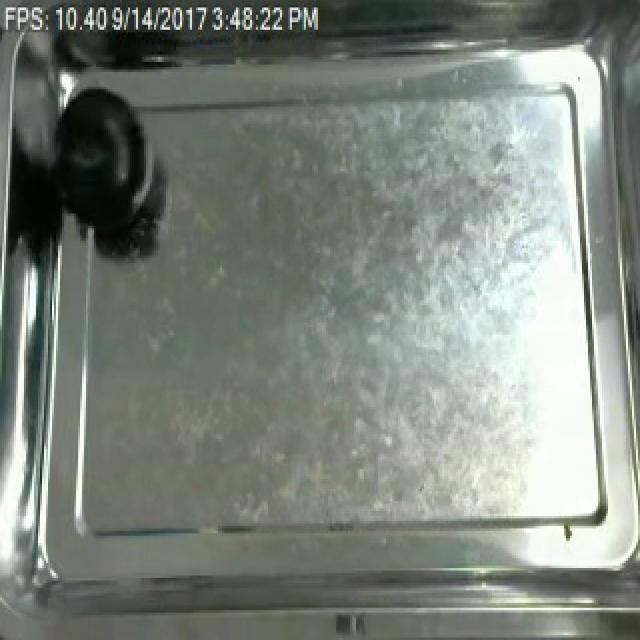Fruit: (42, 77, 160, 250)
